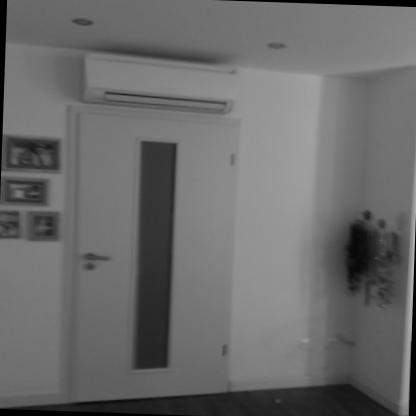closed: (44, 95, 246, 402)
